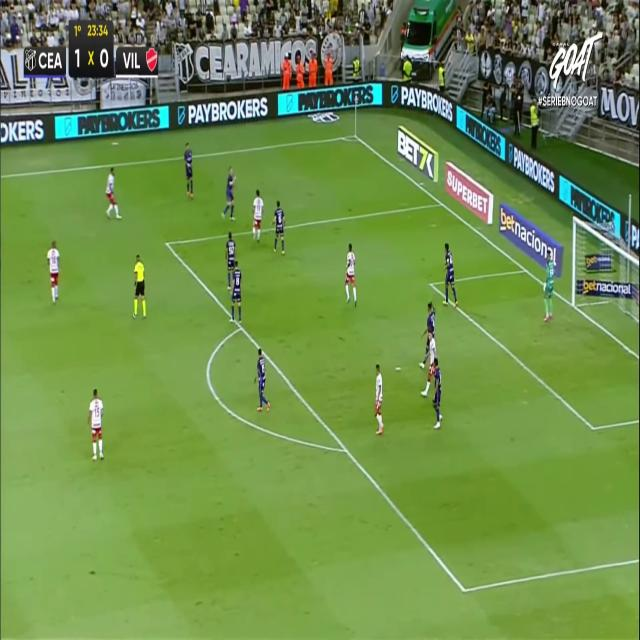goalkeeper: (543, 251, 555, 322)
player: (88, 387, 104, 460), (419, 301, 436, 369), (253, 347, 270, 410), (443, 242, 458, 307), (105, 167, 121, 219), (221, 165, 236, 220), (46, 240, 59, 303), (229, 260, 242, 323), (431, 357, 442, 428), (272, 200, 285, 254), (374, 364, 384, 434), (345, 242, 356, 304), (251, 188, 263, 242), (225, 231, 235, 291), (184, 142, 193, 198)
referee: (132, 253, 147, 318)
